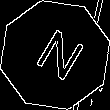N_SW: (25, 23, 85, 87)
